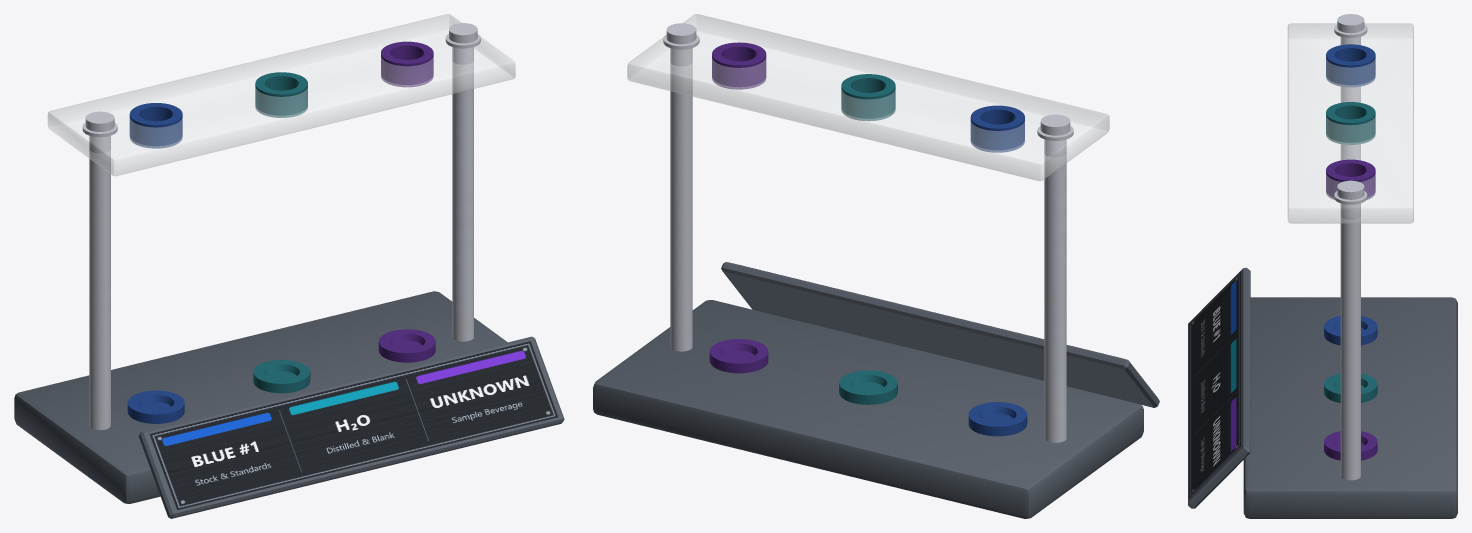
Rendered from pipette_stand.glb.
3 views of the same model, side by side, from view 1: azimuth 30°, elevation 25°; view 2: azimuth 150°, elevation 25°; view 3: azimuth 270°, elevation 25° (orthographic). The views are drawn at different scales.
Visible parts, largest first — view 1: StandLabelQuad, StandTopDeck, StandBase, StandLabelBacking, StandPost_0.081, StandPost_-0.081, Grommet_Blue1, Grommet_Unknown, Grommet_Water, DripCup_Unknown, DripCup_Blue1, DripCup_Water; view 2: StandBase, StandTopDeck, StandLabelBacking, StandPost_0.081, StandPost_-0.081, Grommet_Blue1, Grommet_Unknown, Grommet_Water, DripCup_Blue1, DripCup_Water, DripCup_Unknown; view 3: StandBase, StandTopDeck, StandLabelQuad, StandPost_0.081, StandLabelBacking, Grommet_Blue1, Grommet_Water, Grommet_Unknown, DripCup_Blue1, DripCup_Water, DripCup_Unknown, StandPost_-0.081 (+2 smaller).
Boxes of the visible parts, box(x1,y1,x2,y2) form: StandLabelQuad: box(149, 341, 557, 509); StandTopDeck: box(47, 14, 515, 176); StandBase: box(14, 291, 507, 503); StandLabelBacking: box(138, 336, 564, 518); StandPost_0.081: box(452, 47, 473, 341); StandPost_-0.081: box(89, 135, 110, 430); Grommet_Blue1: box(129, 103, 182, 148); Grommet_Unknown: box(381, 41, 433, 87); Grommet_Water: box(255, 72, 307, 117); DripCup_Unknown: box(378, 329, 435, 362); DripCup_Blue1: box(127, 390, 184, 423); DripCup_Water: box(253, 360, 310, 393); StandBase: box(593, 300, 1143, 518); StandTopDeck: box(627, 14, 1109, 181); StandLabelBacking: box(721, 262, 1159, 407); StandPost_0.081: box(670, 48, 692, 351); StandPost_-0.081: box(1044, 139, 1066, 442); Grommet_Blue1: box(970, 105, 1024, 152); Grommet_Unknown: box(712, 42, 766, 89); Grommet_Water: box(841, 74, 895, 121); DripCup_Blue1: box(968, 402, 1027, 436); DripCup_Water: box(839, 370, 897, 404); DripCup_Unknown: box(709, 339, 768, 373); StandBase: box(1243, 297, 1457, 518); StandTopDeck: box(1287, 23, 1413, 223); StandLabelQuad: box(1189, 271, 1240, 497); StandPost_0.081: box(1340, 203, 1360, 480); StandLabelBacking: box(1188, 267, 1250, 508); Grommet_Blue1: box(1326, 44, 1375, 87); Grommet_Water: box(1326, 102, 1375, 144); Grommet_Unknown: box(1326, 159, 1375, 199); DripCup_Blue1: box(1324, 316, 1377, 345); DripCup_Water: box(1324, 373, 1377, 402); DripCup_Unknown: box(1324, 431, 1377, 460); StandPost_-0.081: box(1340, 36, 1360, 160).
Size of the model in its own units: 0.19 by 0.1453 by 0.1109.
8 materials, 2 textured.
